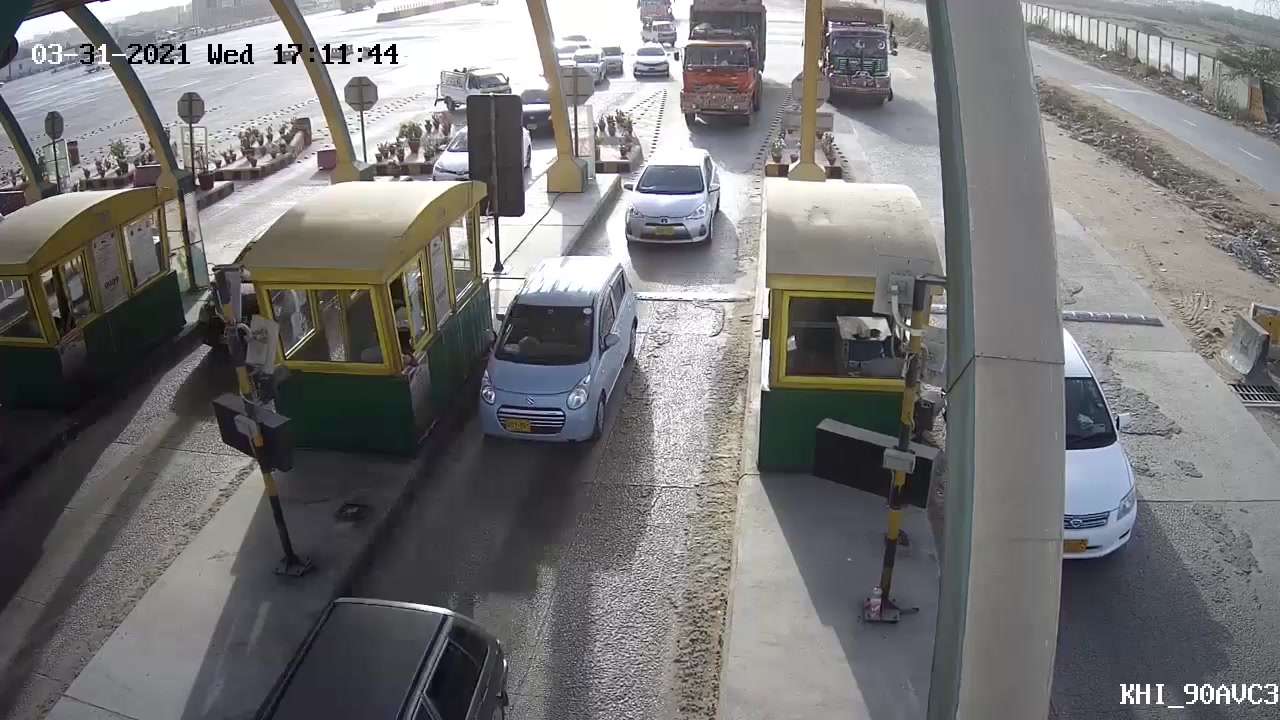F1: (464, 256, 649, 457), (622, 150, 724, 250)
